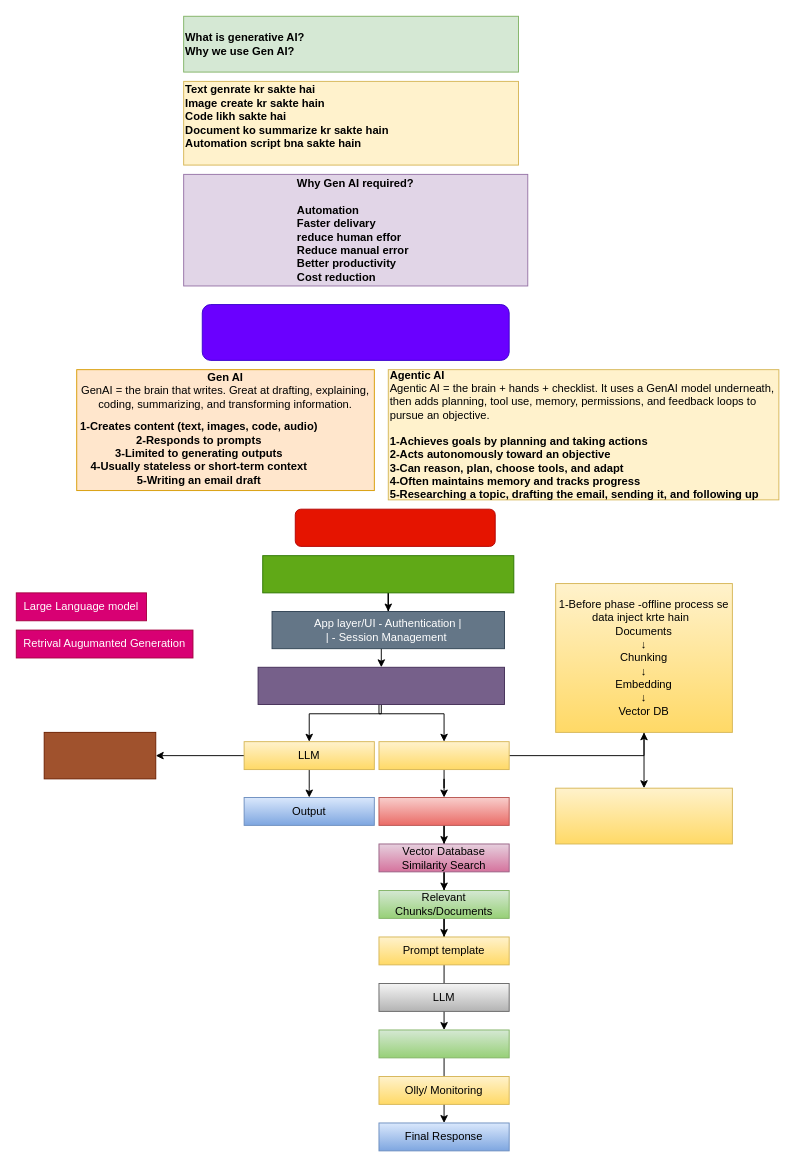
Some shapes in this 795 by 1167 pixel diagram are drawn without their labels. The shapes that lost their labels are listed below. From the top down, each one's centre as x and y in pixels, then its label:
the point at 355,332: Differece b/w Gen AI & Agentic AI
the point at 394,527: GenAI Architecture
the point at 388,574: User (Web App, Chatbot, Teams, Slack, Mobile App)
the point at 381,685: Orchestration layer/Decision maker/manager
the point at 99,755: Risk Outdated Info Hallucination
the point at 443,755: RAG Pipeline
the point at 443,811: Embedding Model
the point at 643,815: 2-After phase- Online process
the point at 443,1043: Security
